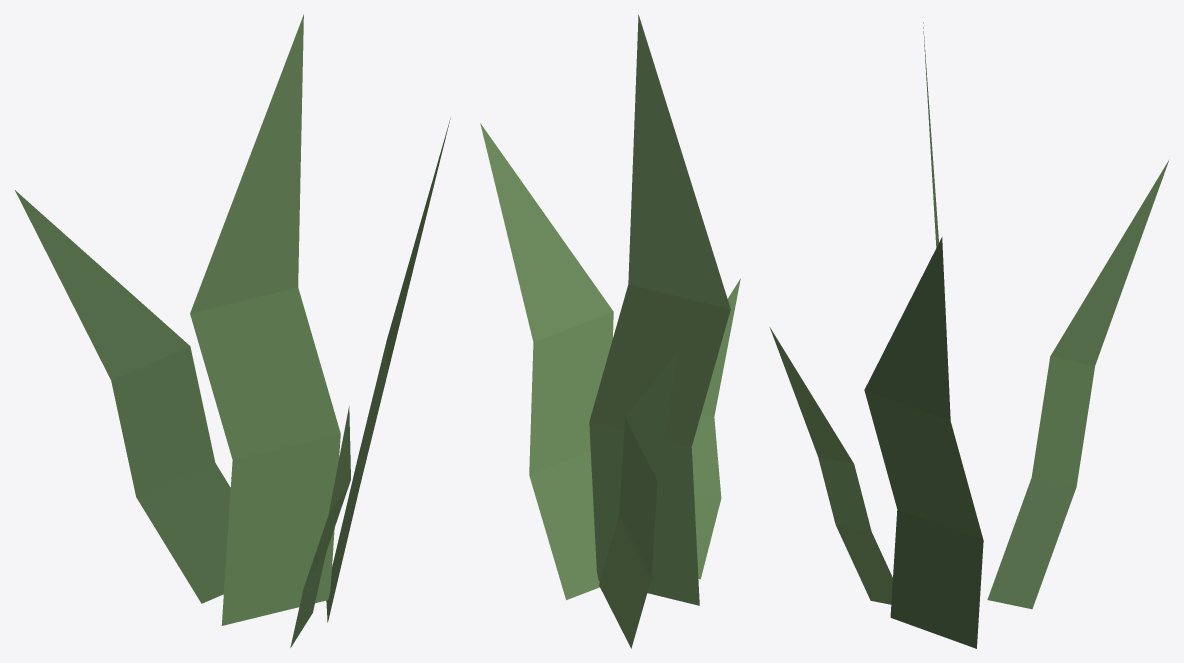
File: grass.fbx
3 views of the same model, side by side, from view 1: azimuth 30°, elevation 25°; view 2: azimuth 150°, elevation 25°; view 3: azimuth 270°, elevation 25° (orthographic). The views are drawn at different scales.
Parts seen in each view (by area): view 1: Plane.003; view 2: Plane.003; view 3: Plane.003.
Boxes of the visible parts, x1,y1,x2,y2 form: Plane.003: (15,14,450,647); Plane.003: (480,14,740,648); Plane.003: (769,17,1169,648).
Bounding box in the file's own units: 1.02 × 1.87 × 1.1.
